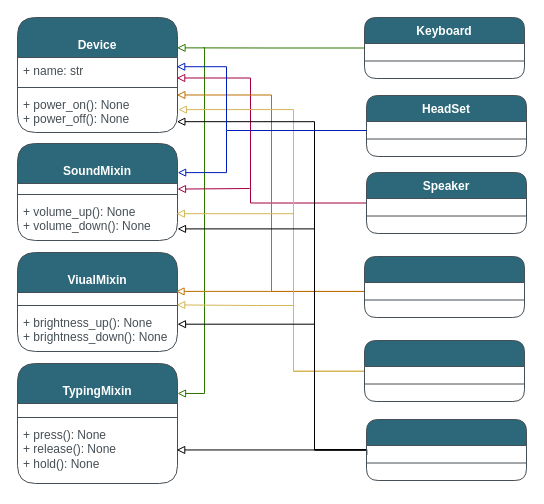
Image size: 544x504. Some labels were removed from this diagram. The shapes that lost their labels are listed below. From the top down, each one's centre as x and y in pixels, then its label:
At point 444,287: "Monitor".
At point 444,371: "Television".
At point 446,449: "Computer".
